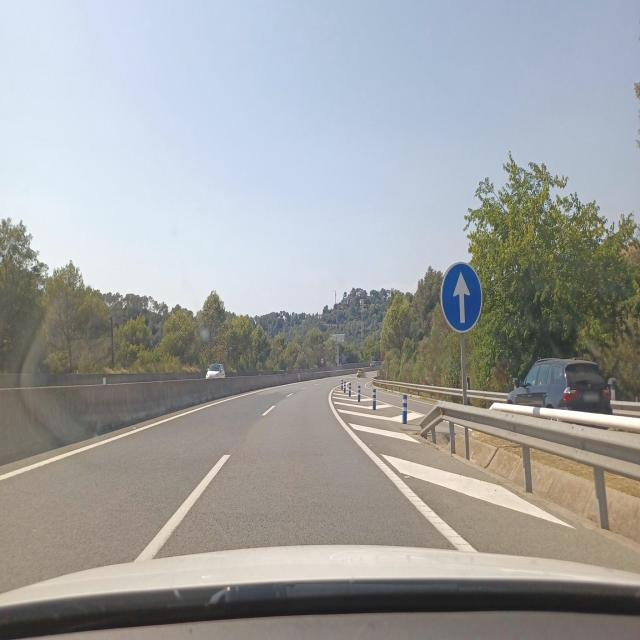car: (507, 357, 613, 417), (206, 362, 226, 379)
